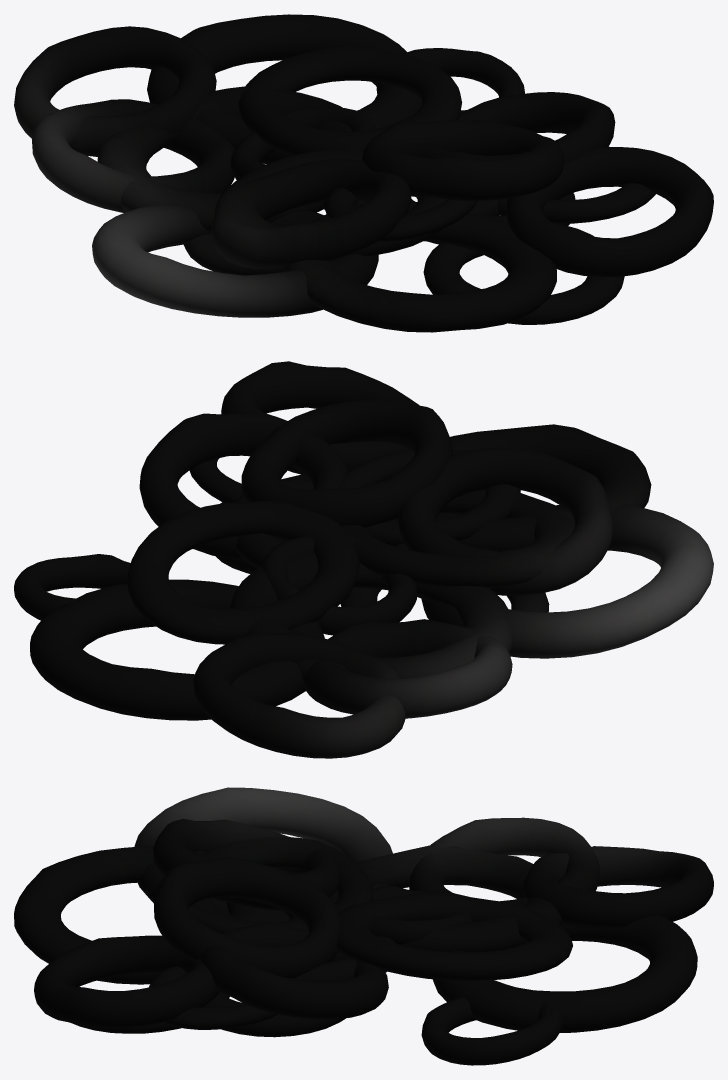
Rendered from OnionRingsBurnt.glb.
3 views of the same model, one above another, from view 1: azimuth 30°, elevation 25°; view 2: azimuth 150°, elevation 25°; view 3: azimuth 270°, elevation 25° (orthographic). The views are drawn at different scales.
Visible parts, largest first — view 1: OnionRingsBurnt; view 2: OnionRingsBurnt; view 3: OnionRingsBurnt.
Boxes of the visible parts, left/top/right/bottom form: OnionRingsBurnt: left=14, top=14, right=713, bottom=332; OnionRingsBurnt: left=14, top=361, right=713, bottom=758; OnionRingsBurnt: left=14, top=787, right=713, bottom=1065.
Size of the model in its own units: 0.3852 by 0.088 by 0.4743.
1 material, 1 textured.
